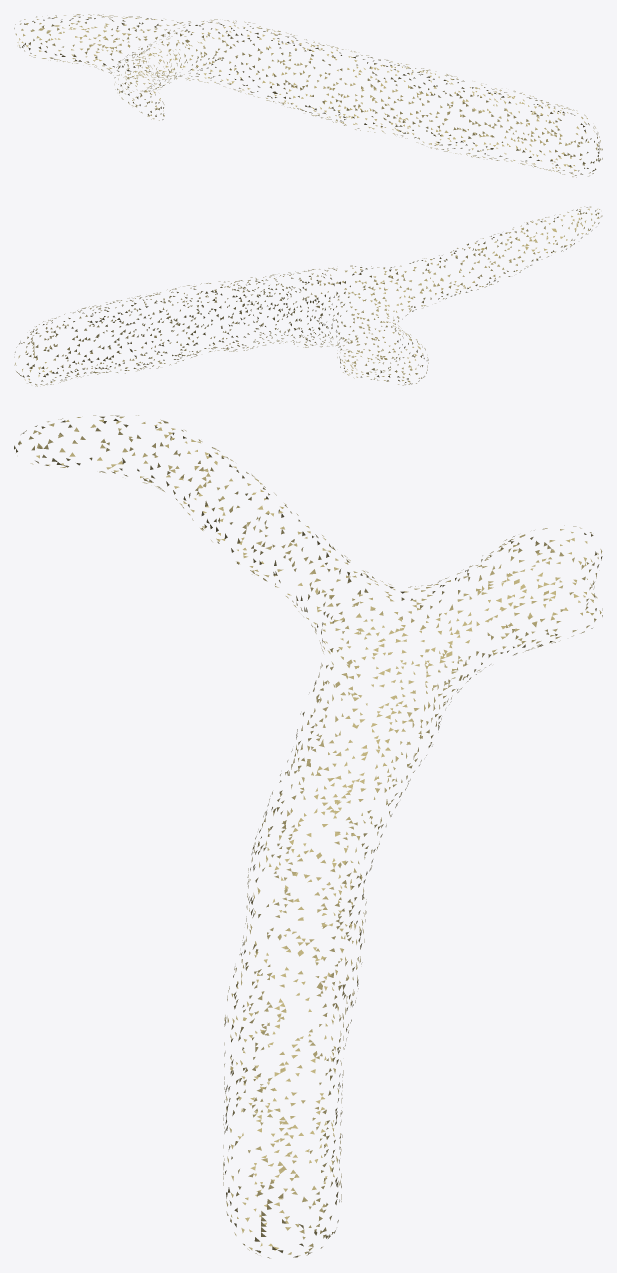
File: morph_008.glb
3 views of the same model, one above another, from view 1: azimuth 30°, elevation 25°; view 2: azimuth 150°, elevation 25°; view 3: azimuth 270°, elevation 25° (orthographic). The views are drawn at different scales.
Size of the model in its own units: 124 by 58.89 by 71.79.
